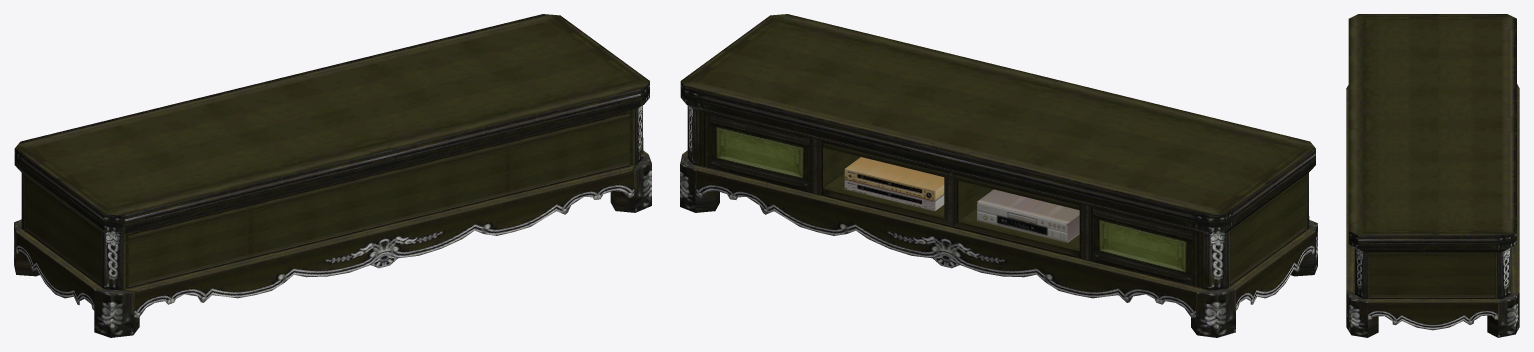
The model's file is furni_0201220_03.FBX.
3 views of the same model, side by side, from view 1: azimuth 30°, elevation 25°; view 2: azimuth 150°, elevation 25°; view 3: azimuth 270°, elevation 25° (orthographic). The views are drawn at different scales.
Parts seen in each view (by area): view 1: furni_0201220_03; view 2: furni_0201220_03; view 3: furni_0201220_03.
Boxes of the visible parts, left/top/right/bottom form: furni_0201220_03: left=14, top=14, right=651, bottom=337; furni_0201220_03: left=680, top=14, right=1317, bottom=337; furni_0201220_03: left=1346, top=14, right=1519, bottom=337.
Size of the model in its own units: 239 by 50.05 by 77.86.
